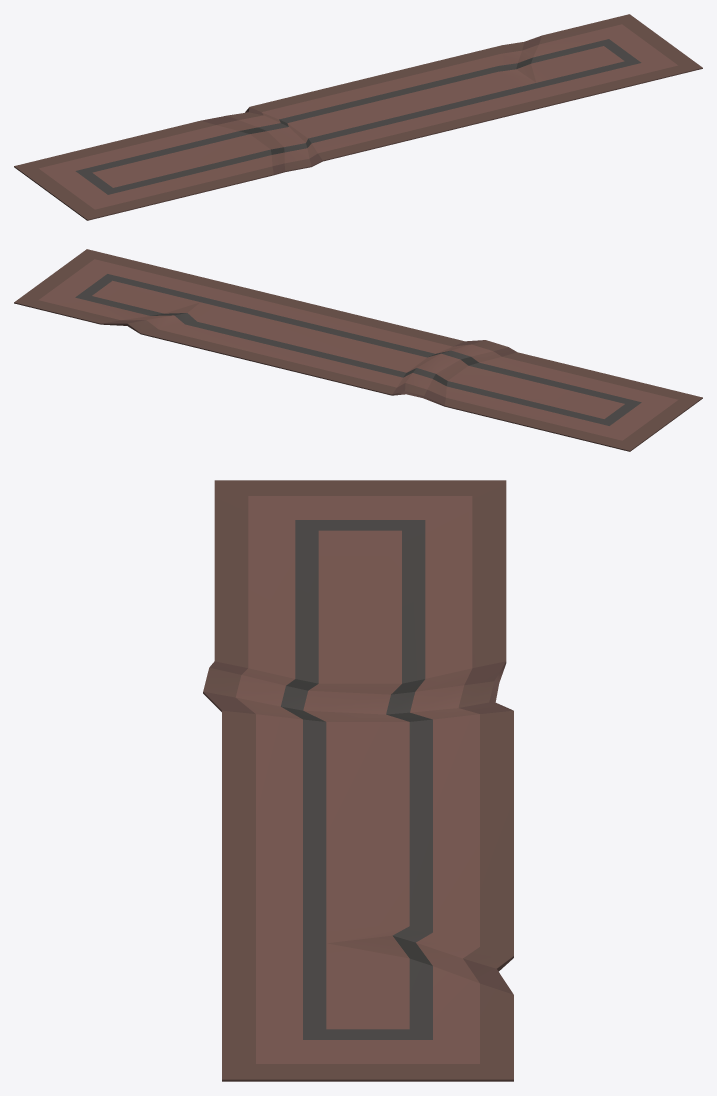
File: SD_Prop_Rug_Red_Large_02.fbx
3 renders of one model, top to bottom at view 1: azimuth 30°, elevation 25°; view 2: azimuth 150°, elevation 25°; view 3: azimuth 270°, elevation 25°, orthographic. The views are drawn at different scales.
Visible parts, largest first — view 1: SD_Prop_Rug_Red_Large_02; view 2: SD_Prop_Rug_Red_Large_02; view 3: SD_Prop_Rug_Red_Large_02.
Part boxes in pixels (box(x1,y1,x2,y2)): SD_Prop_Rug_Red_Large_02: box(14, 14, 702, 220); SD_Prop_Rug_Red_Large_02: box(14, 249, 702, 451); SD_Prop_Rug_Red_Large_02: box(203, 480, 513, 1081).
Bounding box in the file's own units: 12.78 × 0.0645 × 2.8.
